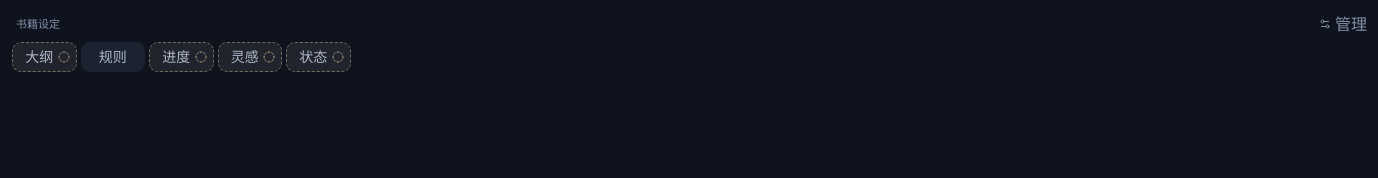
Test case: BookSettingsShortcuts › 缺失的设定文件不打开空 Tab，并提示通过创作 Agent 创建
expect the 2nd icon is shown: met, box [58, 51, 70, 63]
Click the button with aria-label "大纲尚未创建". click: (44, 57)
box: [12, 42, 76, 72]
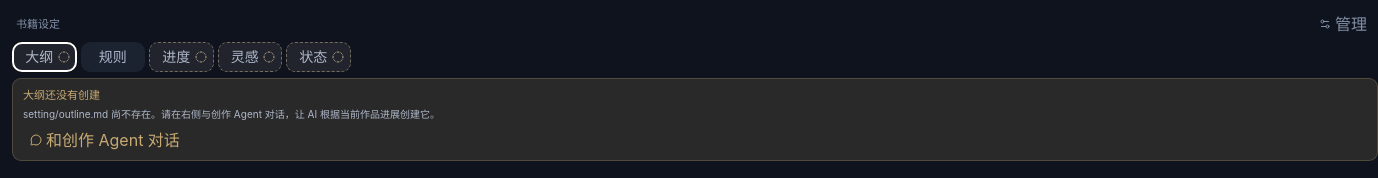
expect the message shows "大纲还没有创建": met, box [23, 88, 100, 102]
expect the message shows "setting/outline.md": met, box [23, 108, 440, 120]
expect the message shows "创作 Agent": met, box [23, 108, 440, 120]
Click the button "和创作 Agent 对话". click: (105, 140)
box: [23, 128, 187, 152]
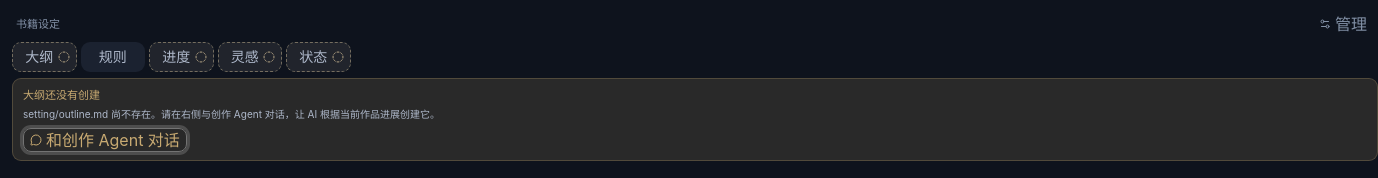
Click the button "规则". click: (113, 57)
box: [80, 42, 145, 72]
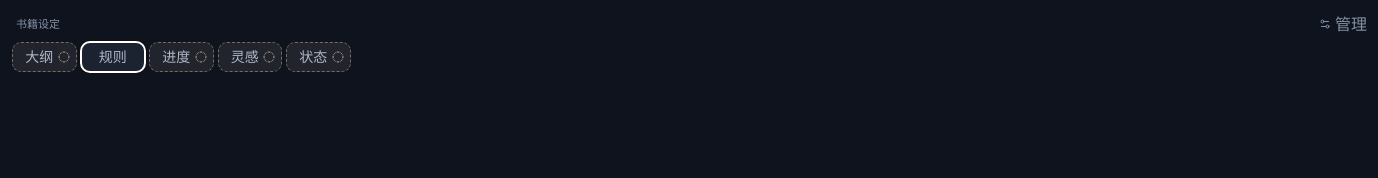
expect the message "大纲还没有创建 setting/outline.md 尚不存在。请在右侧与创作 Agent 对话，让 AI 根据当前作品进展创建它。 和创作 Agent 对话" is gone: met
